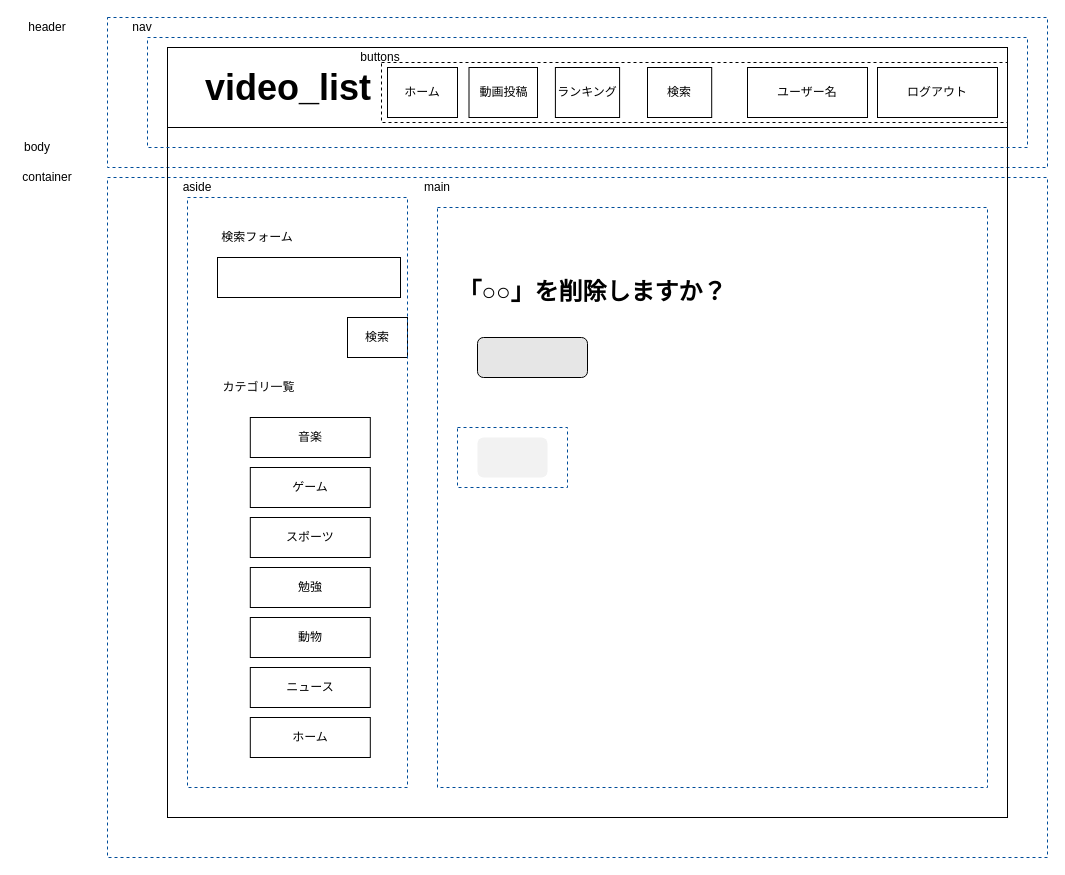
Image size: 1065x875. Some labels were removed from this diagram. The centre of each missing label's shape, as x and y in pixels:
"削除する" belongs at point (532, 357).
"戻る" belongs at point (512, 457).
